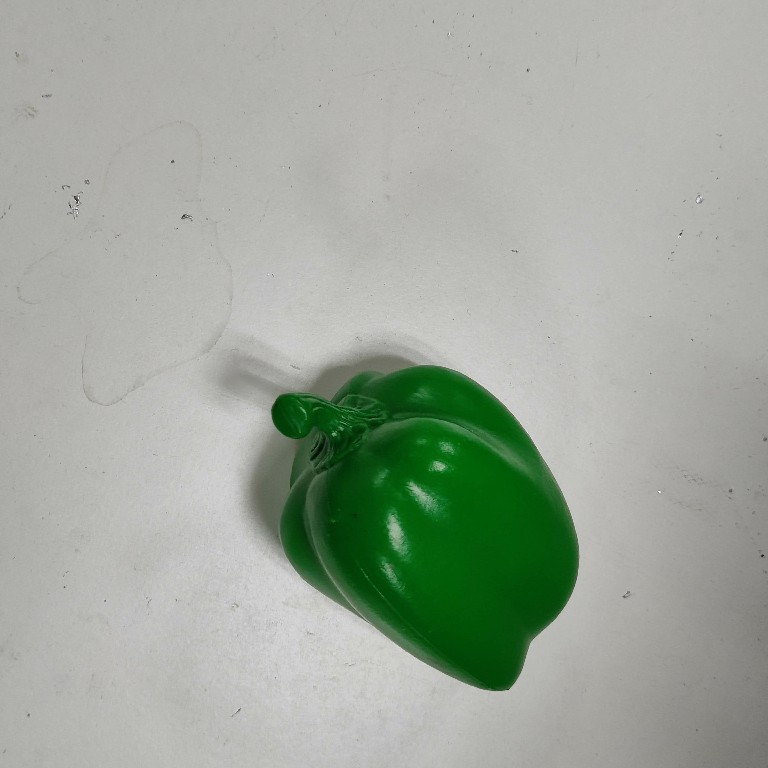fruit_pepper: (268, 362, 583, 698)
